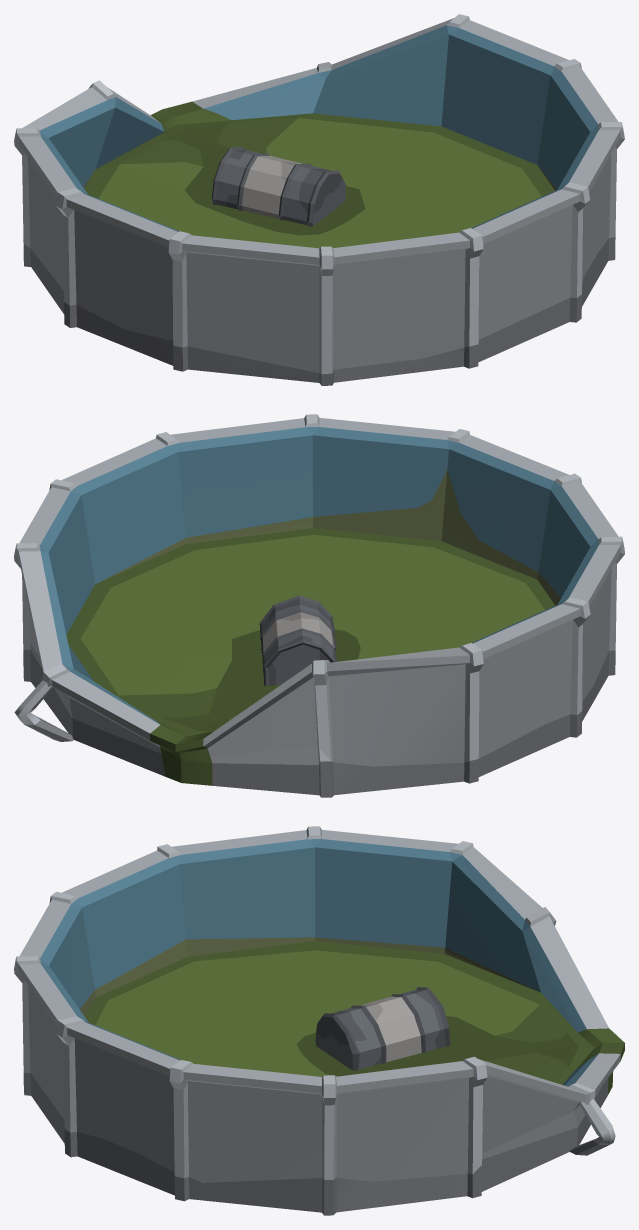
File: apoc_SM_Prop_Pool_Aboveground_01.gltf
3 views of the same model, one above another, from view 1: azimuth 30°, elevation 25°; view 2: azimuth 150°, elevation 25°; view 3: azimuth 270°, elevation 25° (orthographic).
Parts seen in each view (by area): view 1: SM_Prop_Pool_Aboveground_01; view 2: SM_Prop_Pool_Aboveground_01; view 3: SM_Prop_Pool_Aboveground_01.
Boxes of the visible parts, x1,y1,x2,y2 form: SM_Prop_Pool_Aboveground_01: [14, 14, 624, 385]; SM_Prop_Pool_Aboveground_01: [14, 414, 624, 797]; SM_Prop_Pool_Aboveground_01: [14, 826, 624, 1215].
Size of the model in its own units: 5.6 by 1.36 by 5.56.
1 material, 1 textured.
